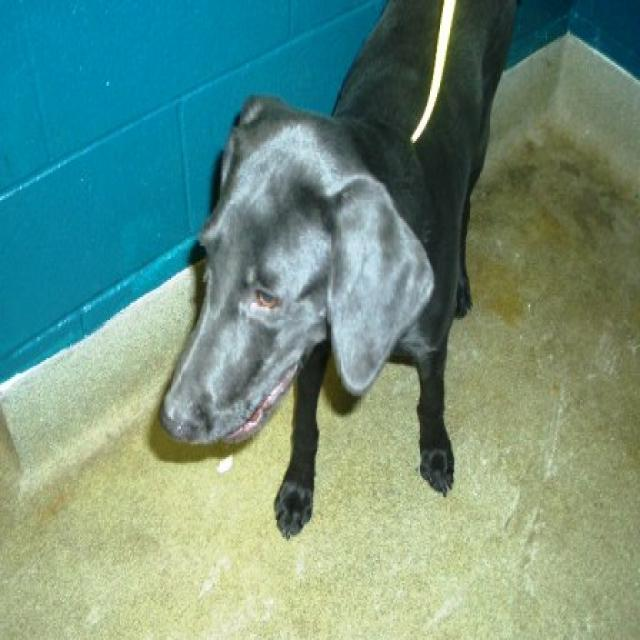Dogs: (157, 0, 520, 539)
